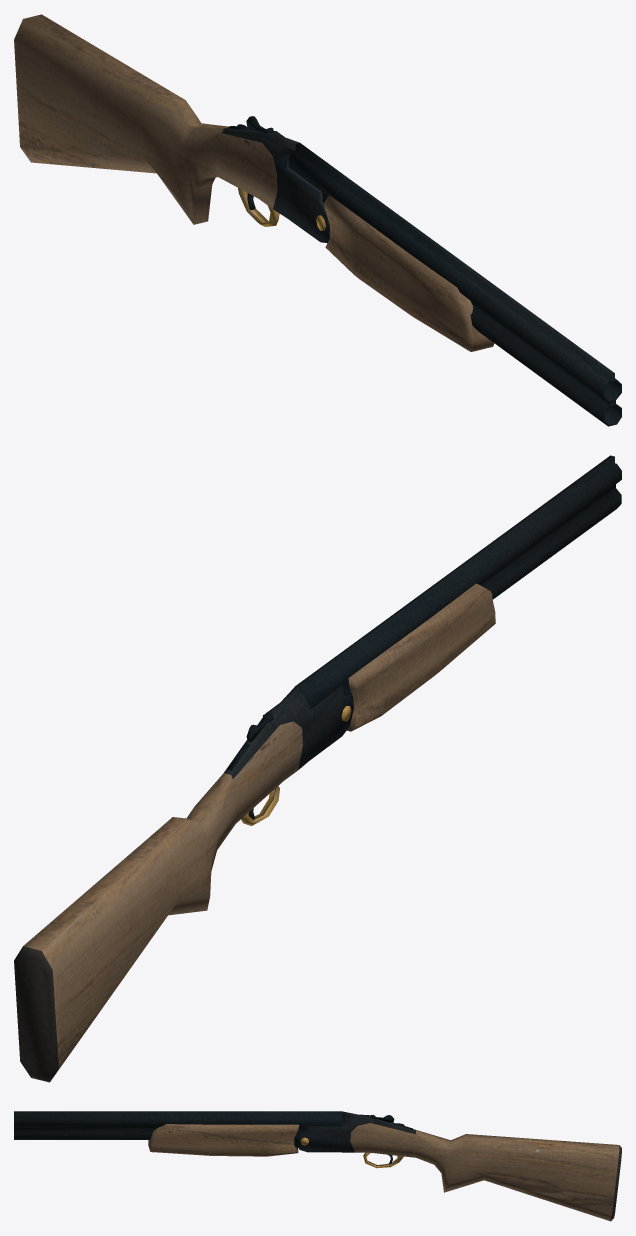
File: Shotgun_WorldModel.glb
The picture shows the model from 3 angles, top to bottom: view 1: azimuth 30°, elevation 25°; view 2: azimuth 150°, elevation 25°; view 3: azimuth 270°, elevation 25°; orthographic projection. The views are drawn at different scales.
Visible parts, largest first — view 1: SHOTGUN; view 2: SHOTGUN; view 3: SHOTGUN.
Boxes of the visible parts, bbox=[...] form: SHOTGUN: bbox=[14, 14, 621, 426]; SHOTGUN: bbox=[14, 455, 621, 1082]; SHOTGUN: bbox=[14, 1111, 621, 1221].
Bounding box in the file's own units: 0.057 × 0.2884 × 1.48.
1 material, 1 textured.
